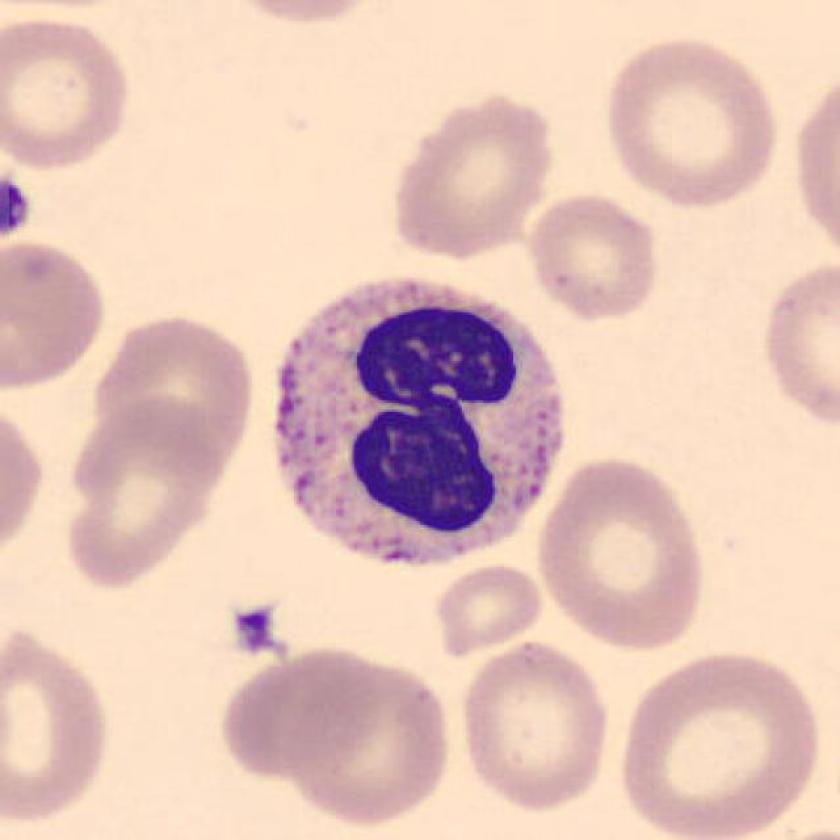neutrophil: (281, 282, 567, 561)
